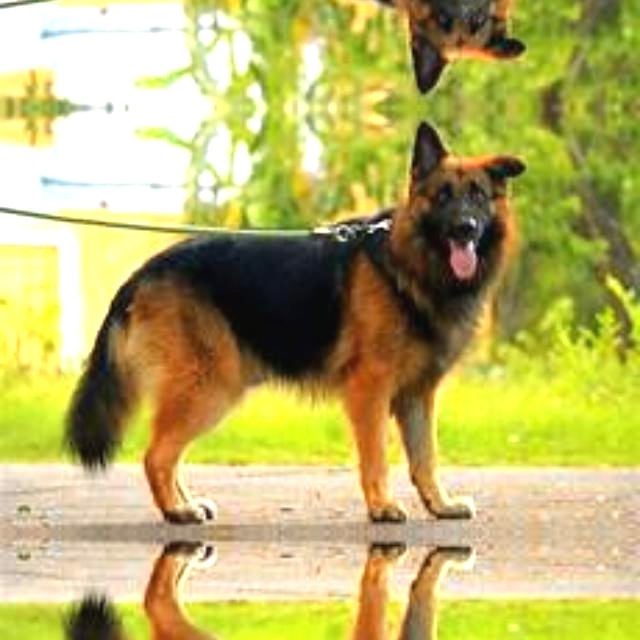dog: (98, 141, 533, 533), (99, 533, 534, 640), (99, 0, 534, 73)
